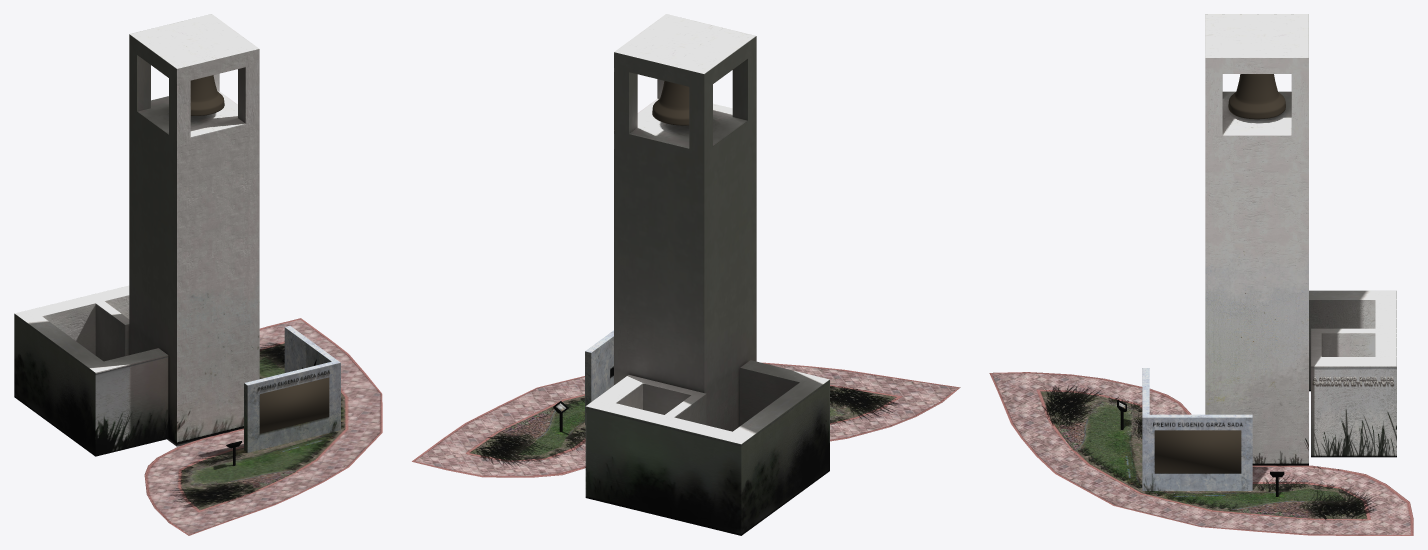
The model's file is carreras_campanario.glb.
3 renders of one model, left to right at view 1: azimuth 30°, elevation 25°; view 2: azimuth 150°, elevation 25°; view 3: azimuth 270°, elevation 25°, orthographic. The views are drawn at different scales.
Parts seen in each view (by area): view 1: campanario, edif, Plane.019, muro, placa.001, campana; view 2: campanario, edif, Plane.019, muro, campana; view 3: campanario, Plane.019, edif, muro, placa, campana, fundador.
Part boxes in pixels (x1,y1,x2,y2): campanario: (129,14,259,446); edif: (14,285,168,456); Plane.019: (144,318,382,535); muro: (244,325,340,452); placa.001: (260,377,329,433); campana: (190,75,224,115); campanario: (614,14,756,431); edif: (585,360,829,535); Plane.019: (412,362,960,477); muro: (585,330,613,424); campana: (652,81,689,125); campanario: (1205,14,1308,465); Plane.019: (989,372,1413,535); edif: (1309,290,1396,457); muro: (1142,368,1252,490); placa: (1154,430,1241,473); campana: (1228,74,1285,119); fundador: (1312,376,1393,384).
Bounding box in the file's own units: 10.85 × 12.66 × 11.86.
6 materials, 4 textured.
